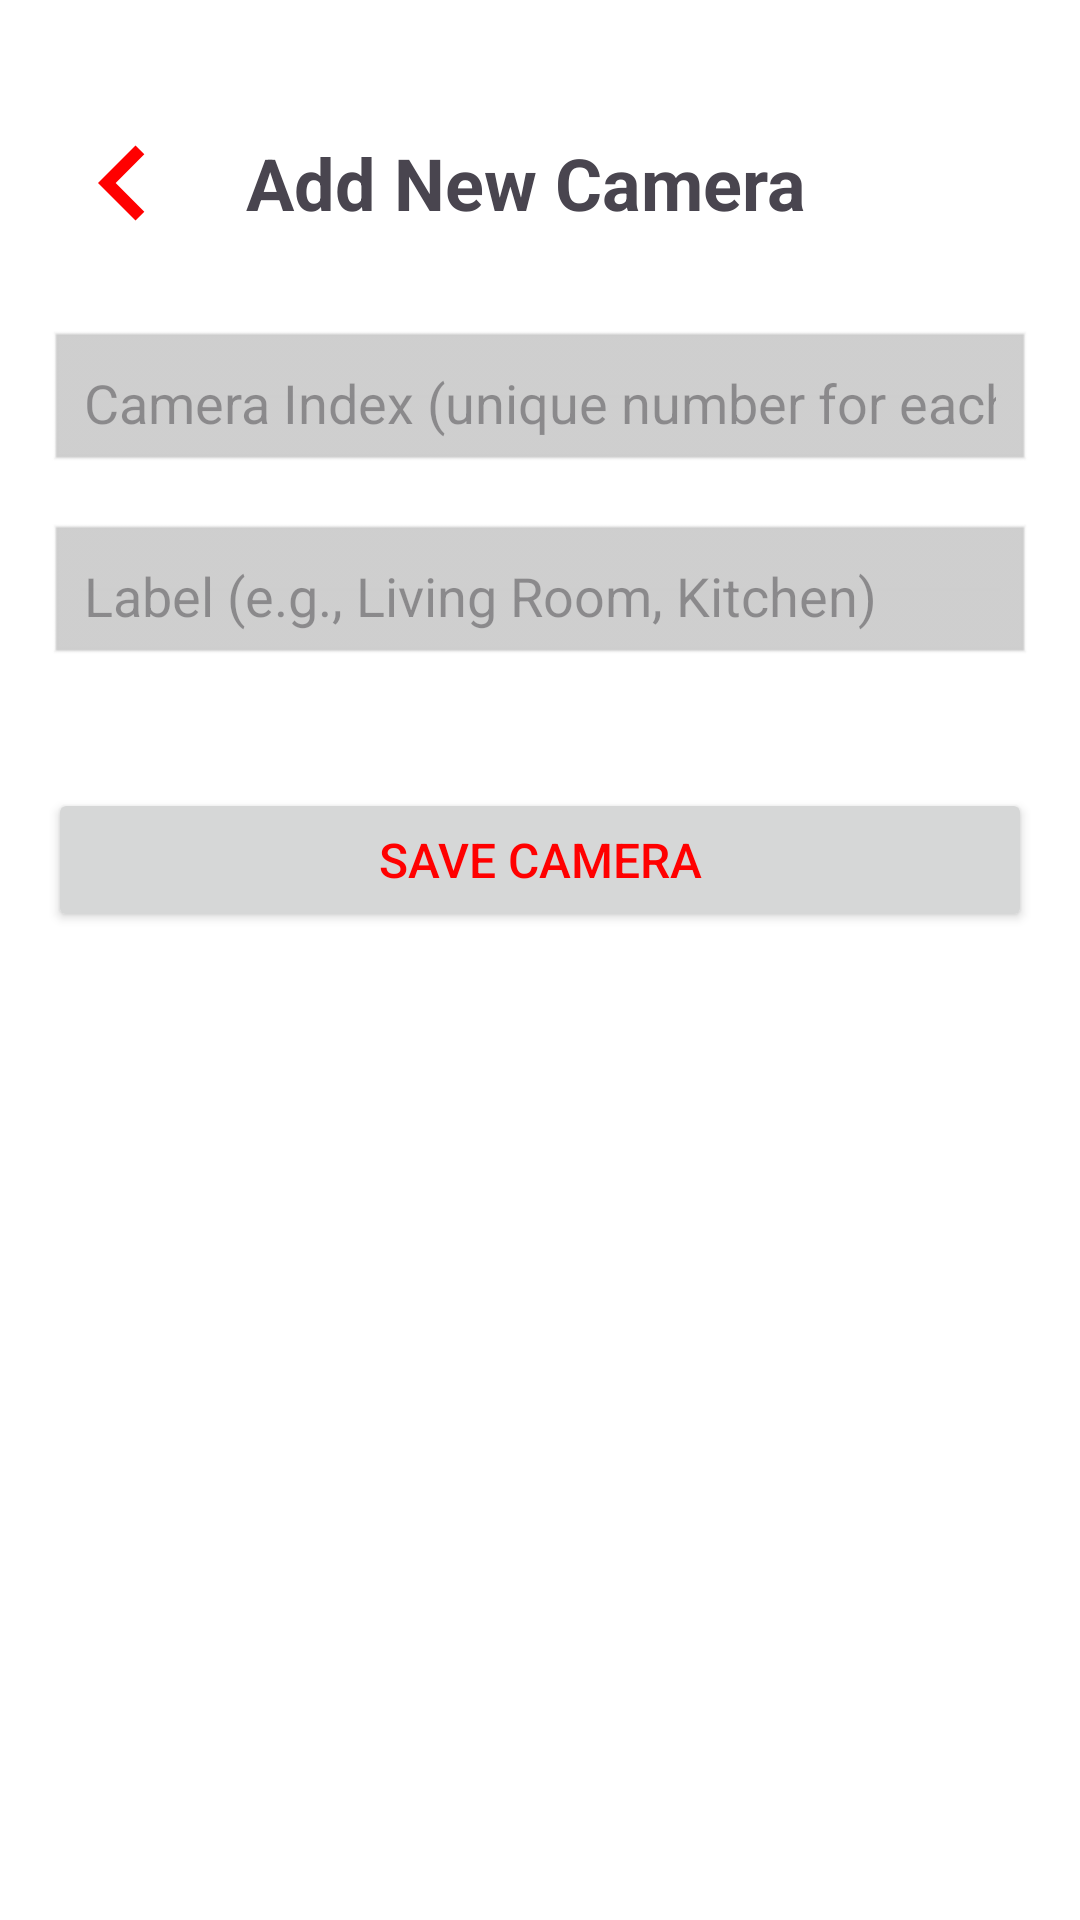

Named icons in this screenshot (1080x1920) and their centers, point (x, y):
Back: point (121, 183)
